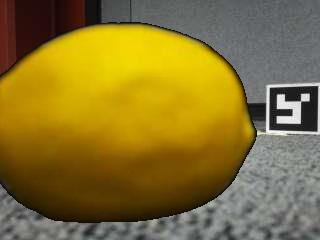lemon: (6, 27, 258, 227)
